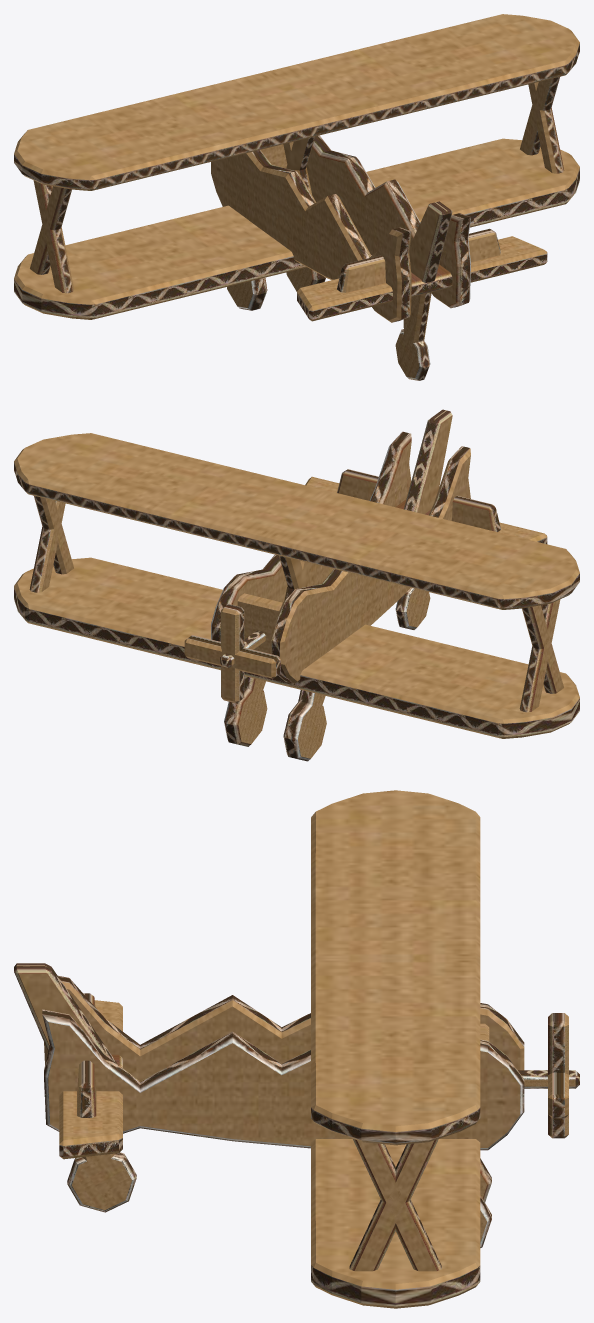
File: Cardboard plane (3).fbx
3 renders of one model, top to bottom at view 1: azimuth 30°, elevation 25°; view 2: azimuth 150°, elevation 25°; view 3: azimuth 270°, elevation 25°, orthographic. The views are drawn at different scales.
Visible parts, largest first — view 1: CP_Top wings, CP_Bottom wings, CP_Base, CP_Flaps; view 2: CP_Top wings, CP_Bottom wings, CP_Base, CP_Flaps, CP_Propeller; view 3: CP_Top wings, CP_Base, CP_Bottom wings, CP_Flaps, CP_Propeller.
Boxes of the visible parts, x1=… form: CP_Top wings: x1=14, y1=14, x2=579, y2=293; CP_Bottom wings: x1=14, y1=138, x2=579, y2=319; CP_Base: x1=211, y1=135, x2=470, y2=380; CP_Flaps: x1=297, y1=201, x2=547, y2=321; CP_Top wings: x1=14, y1=433, x2=579, y2=712; CP_Bottom wings: x1=14, y1=557, x2=579, y2=738; CP_Base: x1=211, y1=431, x2=470, y2=761; CP_Flaps: x1=305, y1=409, x2=547, y2=544; CP_Propeller: x1=184, y1=604, x2=280, y2=703; CP_Top wings: x1=311, y1=790, x2=480, y2=1271; CP_Base: x1=42, y1=975, x2=524, y2=1247; CP_Bottom wings: x1=311, y1=1139, x2=480, y2=1308; CP_Flaps: x1=14, y1=963, x2=122, y2=1159; CP_Propeller: x1=518, y1=1013, x2=579, y2=1138.
Bounding box in the file's own units: 9.49 × 3.67 × 6.68.
1 material, 1 textured.
